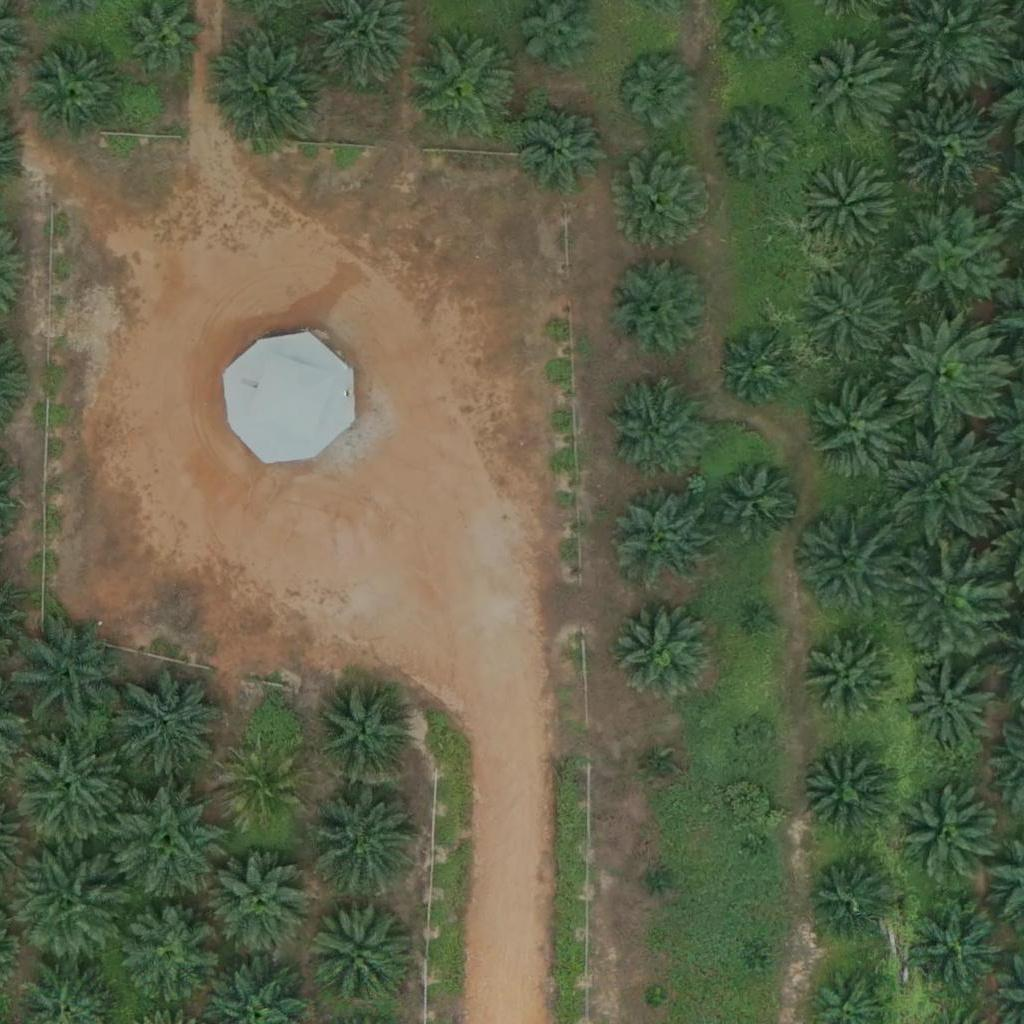Kelapa_Sawit: (791, 505, 904, 619), (115, 668, 228, 782), (113, 784, 226, 898), (13, 619, 126, 733), (214, 30, 327, 143), (896, 93, 1009, 206), (406, 30, 518, 144), (891, 433, 1003, 547), (894, 539, 1006, 653), (13, 725, 125, 839), (891, 202, 1003, 315), (890, 323, 1002, 436), (310, 783, 422, 896), (10, 850, 122, 963), (604, 377, 704, 478), (802, 38, 902, 139), (797, 156, 897, 257), (897, 784, 997, 885), (905, 896, 1005, 997), (612, 488, 712, 589), (610, 596, 710, 697), (312, 683, 412, 784), (614, 151, 714, 251), (609, 258, 709, 358), (807, 270, 907, 370), (809, 383, 909, 483), (307, 903, 407, 1003), (213, 856, 313, 956), (119, 906, 219, 1006), (30, 48, 118, 137), (523, 103, 611, 191), (806, 857, 894, 945), (218, 746, 306, 834), (613, 47, 700, 135), (715, 102, 802, 190), (907, 662, 994, 750), (807, 629, 894, 717), (800, 751, 887, 839), (713, 458, 800, 546), (720, 330, 795, 406), (738, 721, 776, 759), (751, 606, 776, 631), (747, 836, 772, 861), (741, 952, 766, 977), (647, 756, 672, 781), (647, 869, 672, 894), (643, 987, 668, 1012)
